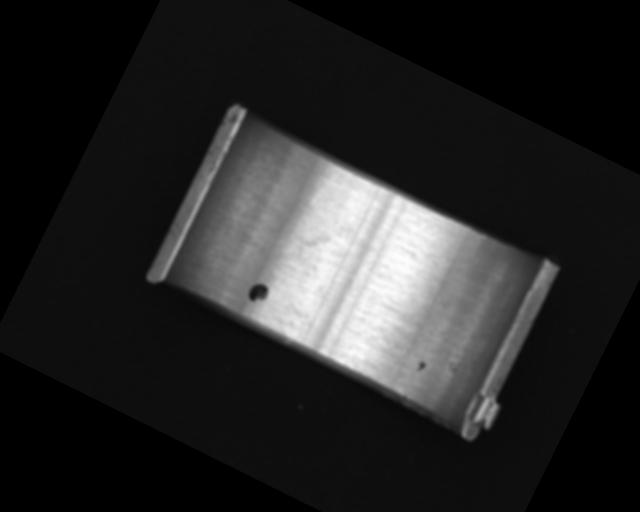blot: (271, 211, 335, 278), (244, 279, 272, 307)
bruise: (414, 357, 428, 374)
nick: (309, 166, 341, 209)
